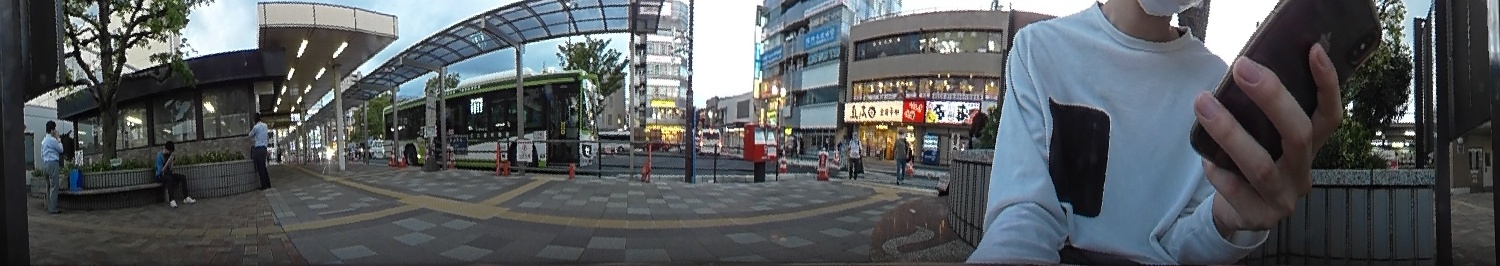difficult_person: (890, 128, 913, 184), (846, 134, 862, 178)
person: (154, 139, 195, 209), (246, 110, 276, 193), (39, 116, 67, 203)
